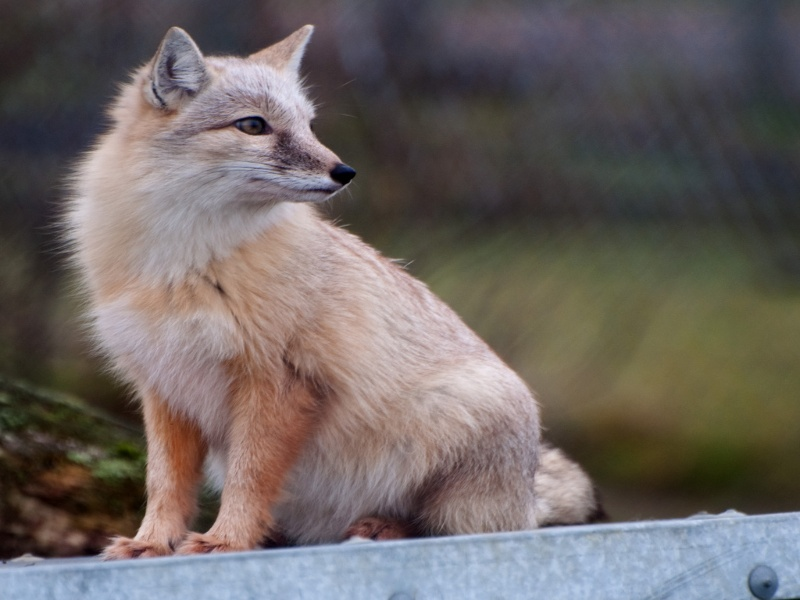fox: (52, 23, 611, 567)
